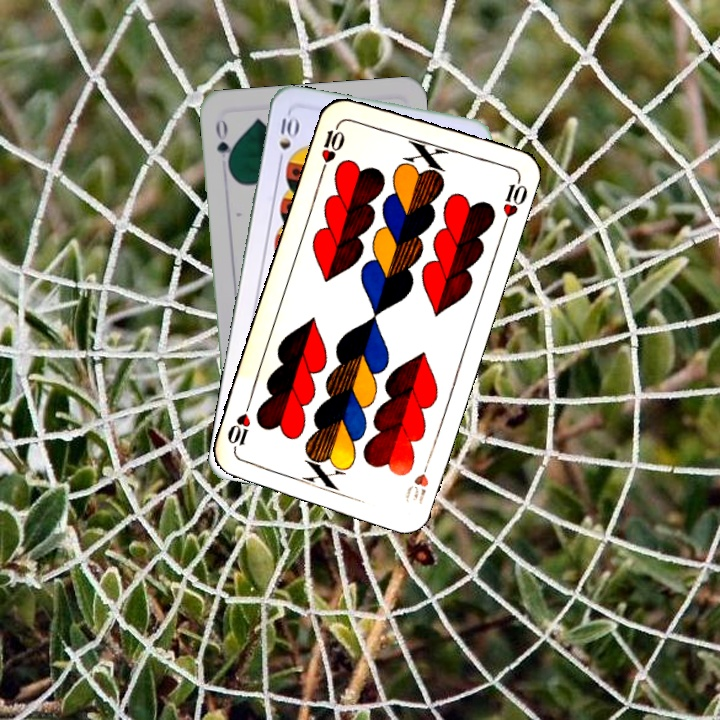GO: (212, 115, 236, 173)
H10: (401, 452, 434, 507), (317, 117, 348, 175)
S10: (274, 109, 300, 168)
